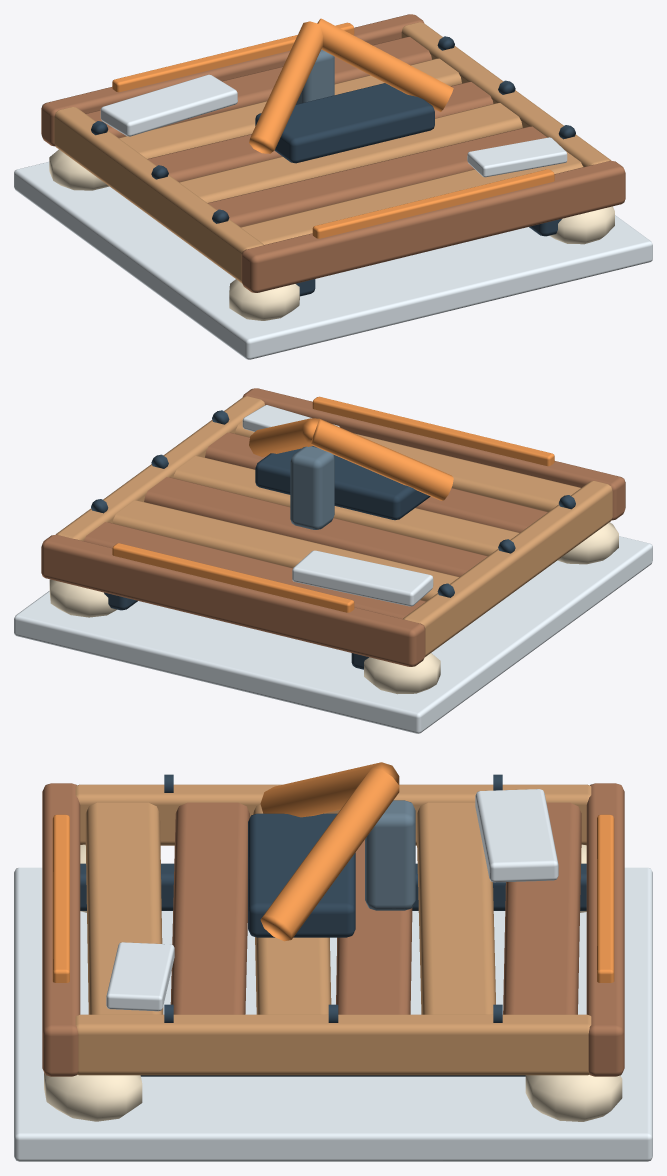
Rendered from pad_upgrade.glb.
3 views of the same model, one above another, from view 1: azimuth 30°, elevation 25°; view 2: azimuth 150°, elevation 25°; view 3: azimuth 270°, elevation 25° (orthographic). The views are drawn at different scales.
Visible parts, largest first — view 1: pad_upgrade; view 2: pad_upgrade; view 3: pad_upgrade.
Boxes of the visible parts, left/top/right/bottom form: pad_upgrade: left=14, top=14, right=652, bottom=359; pad_upgrade: left=14, top=388, right=652, bottom=733; pad_upgrade: left=14, top=762, right=652, bottom=1161.
Size of the model in its own units: 2.02 by 0.9173 by 2.02.
